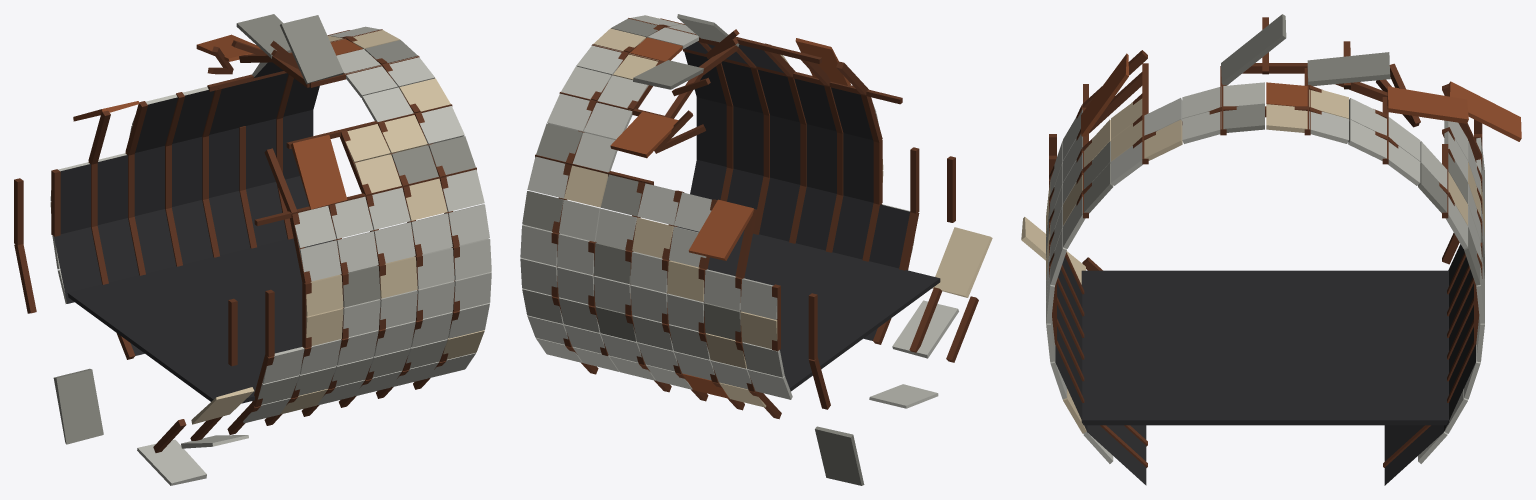
File: ship_hull_stern.glb
3 renders of one model, left to right at view 1: azimuth 30°, elevation 25°; view 2: azimuth 150°, elevation 25°; view 3: azimuth 270°, elevation 25°, orthographic. The views are drawn at different scales.
Parts seen in each view (by area): view 1: ship_hull_stern; view 2: ship_hull_stern; view 3: ship_hull_stern.
Part boxes in pixels (bbox=[...]): ship_hull_stern: bbox=[14, 14, 491, 485]; ship_hull_stern: bbox=[520, 14, 992, 485]; ship_hull_stern: bbox=[1021, 14, 1521, 485].
Bounding box in the file's own units: 30 × 38.66 × 36.49.
